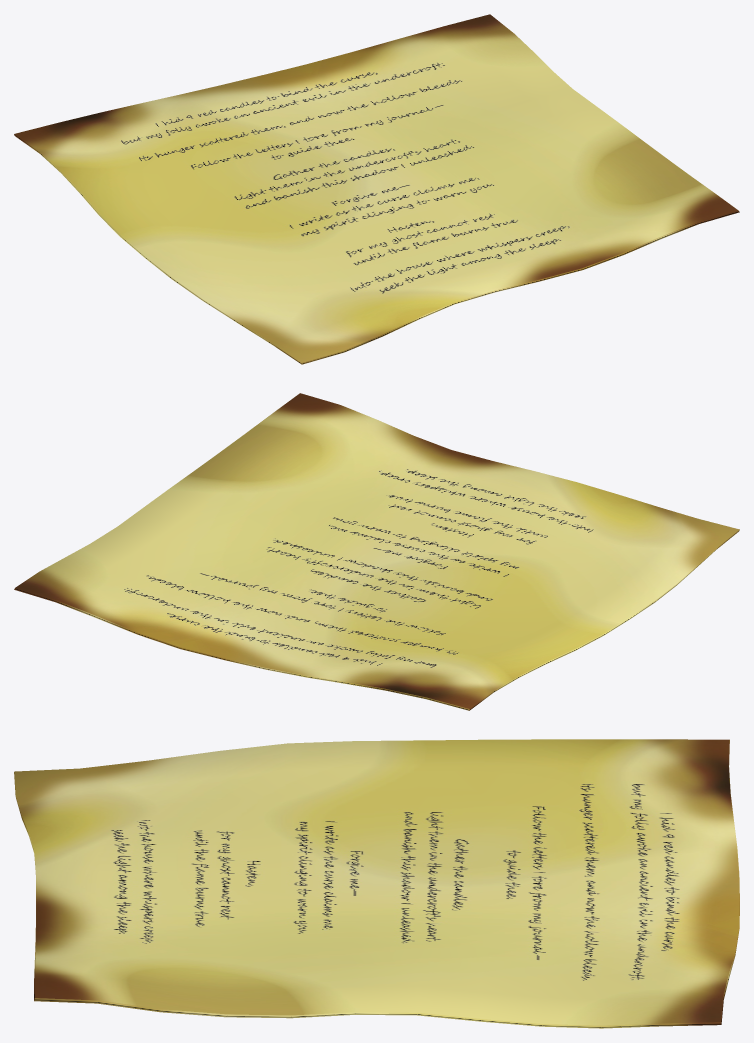
The model's file is Paper11.glb.
3 views of the same model, one above another, from view 1: azimuth 30°, elevation 25°; view 2: azimuth 150°, elevation 25°; view 3: azimuth 270°, elevation 25° (orthographic). The views are drawn at different scales.
Visible parts, largest first — view 1: Plane; view 2: Plane; view 3: Plane.
Boxes of the visible parts, x1,y1,x2,y2 form: Plane: (14, 14, 739, 364); Plane: (14, 393, 739, 710); Plane: (14, 739, 739, 1028).
Bounding box in the file's own units: 0.8607 × 0.0672 × 0.8722.
1 material, 1 textured.
